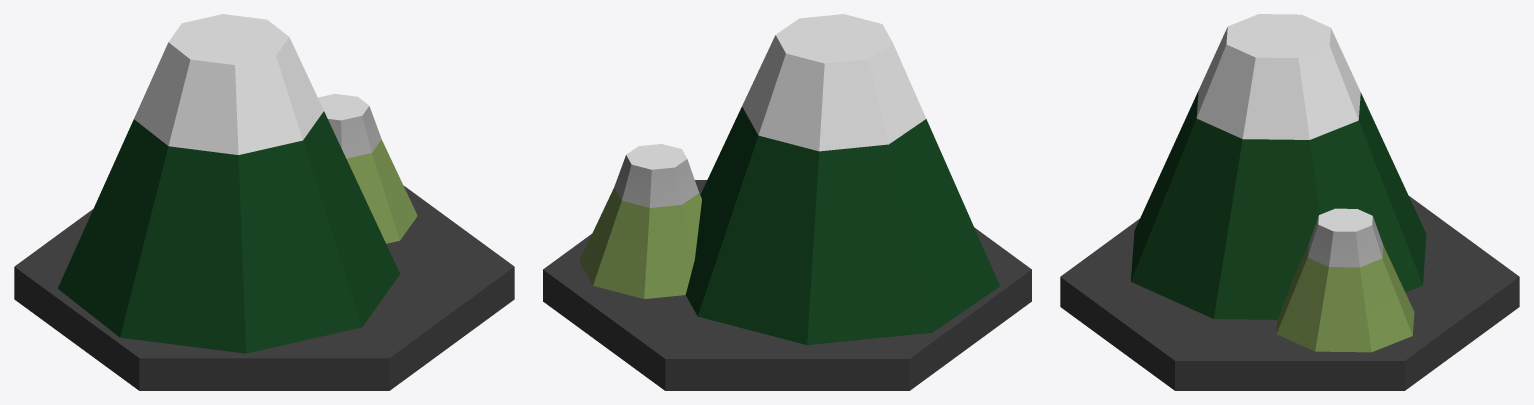
File: mountain.fbx
3 renders of one model, left to right at view 1: azimuth 30°, elevation 25°; view 2: azimuth 150°, elevation 25°; view 3: azimuth 270°, elevation 25°, orthographic. The views are drawn at different scales.
Parts seen in each view (by area): view 1: mountain1; view 2: mountain1; view 3: mountain1.
Boxes of the visible parts, <box> form: mountain1: <box>14,14,514,390</box>; mountain1: <box>543,14,1031,390</box>; mountain1: <box>1060,14,1519,390</box>.
Bounding box in the file's own units: 0.866 × 0.6054 × 1.
